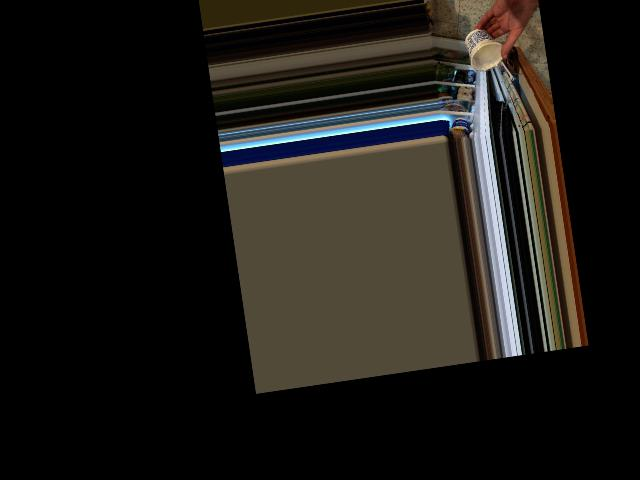cotage: (466, 26, 504, 72)
